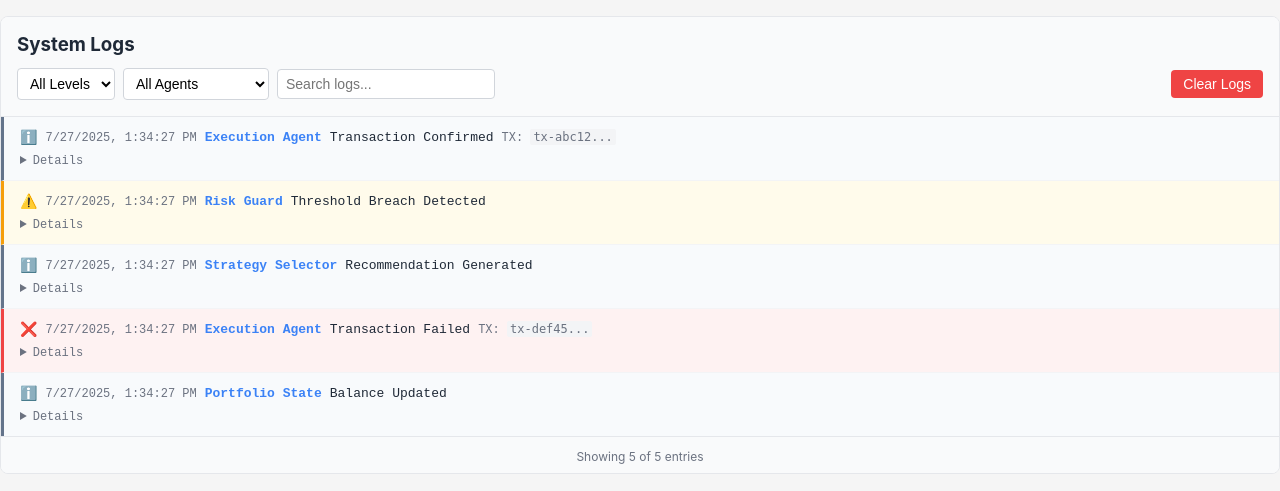
Test: LogDisplay › displays empty state when no logs match filters
The image size is (1280, 491).
Step 1. Type "nonexistent" into the field with placeholder "Search logs..." → [386, 84], box [277, 69, 495, 99]
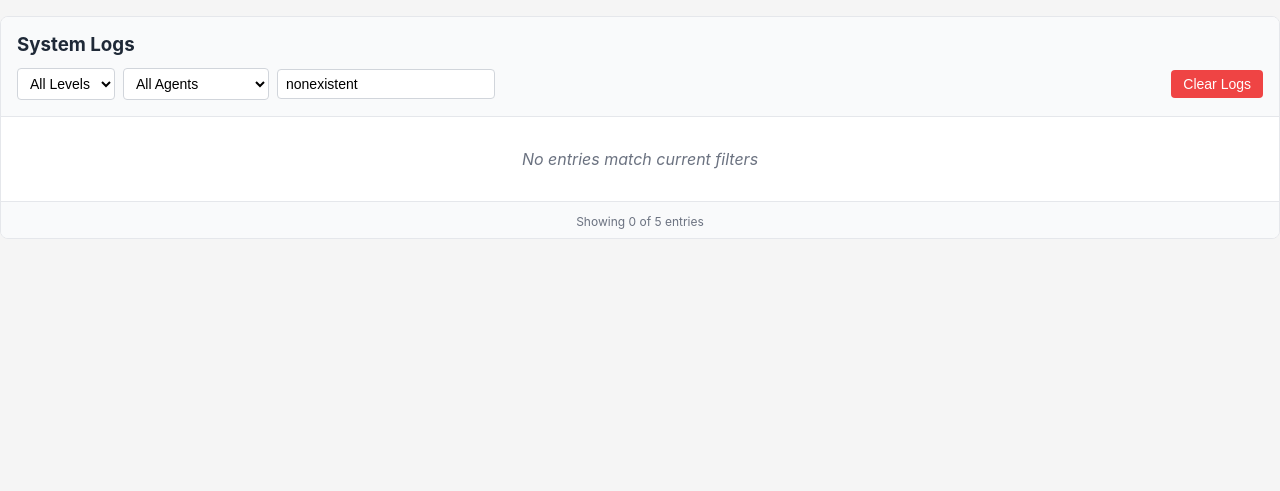
Result: the text "No entries match current filters" is shown at [522, 149, 758, 169]
